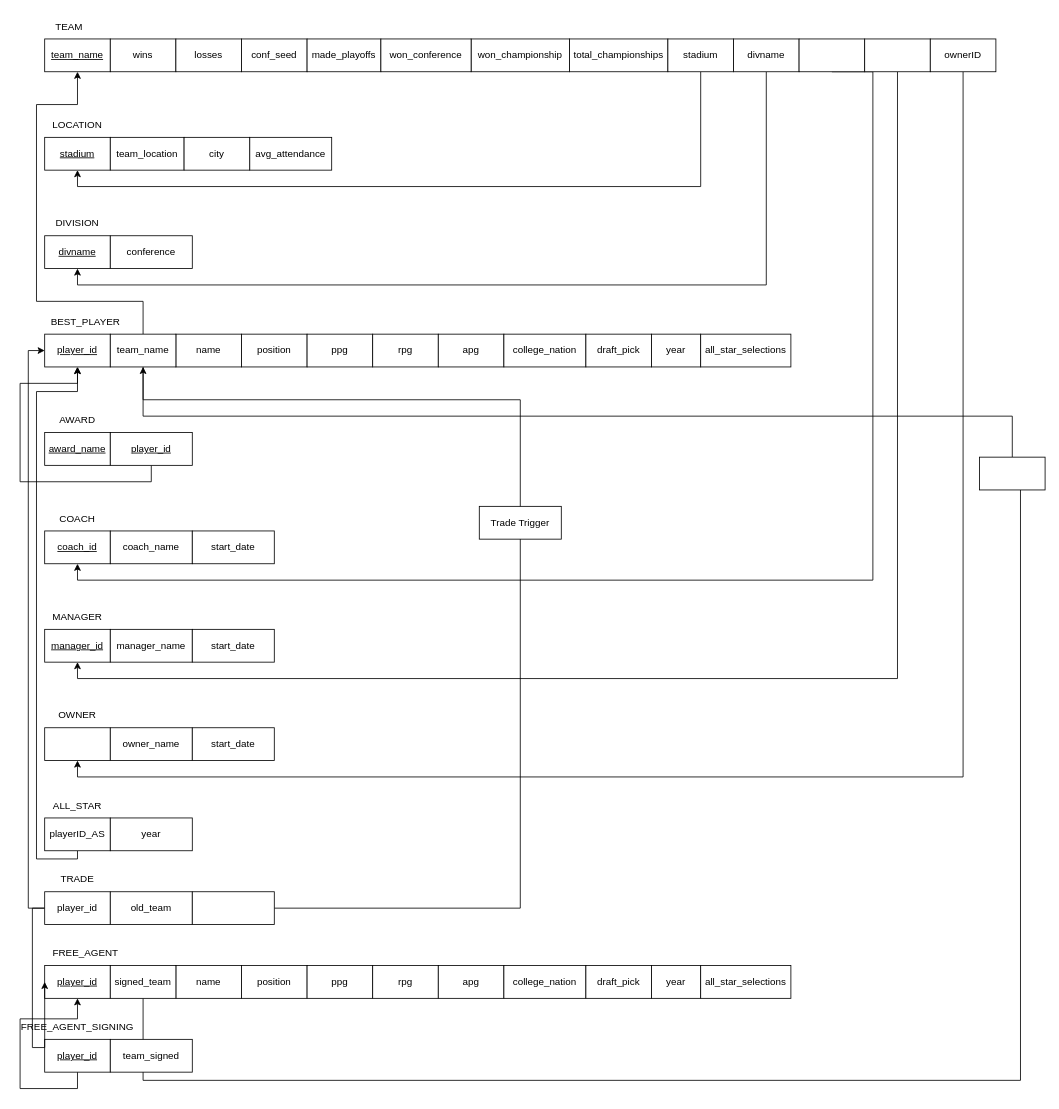
Some shapes in this 1059 by 1109 pixel diagram are drawn without their labels. The shapes that lost their labels are listed below. From the top down, each one's centre as x and y in pixels, then its label:
At pixel 831 55: "coachID".
At pixel 897 55: "managerID".
At pixel 1012 473: "Free_Agent Trigger".
At pixel 77 744: "owner_id".
At pixel 232 908: "new_team".
